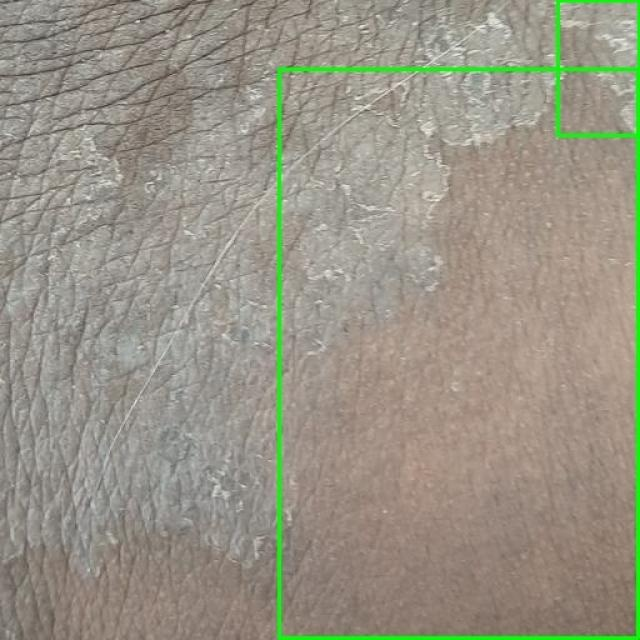Eczema: (279, 69, 639, 639), (558, 0, 639, 135)
